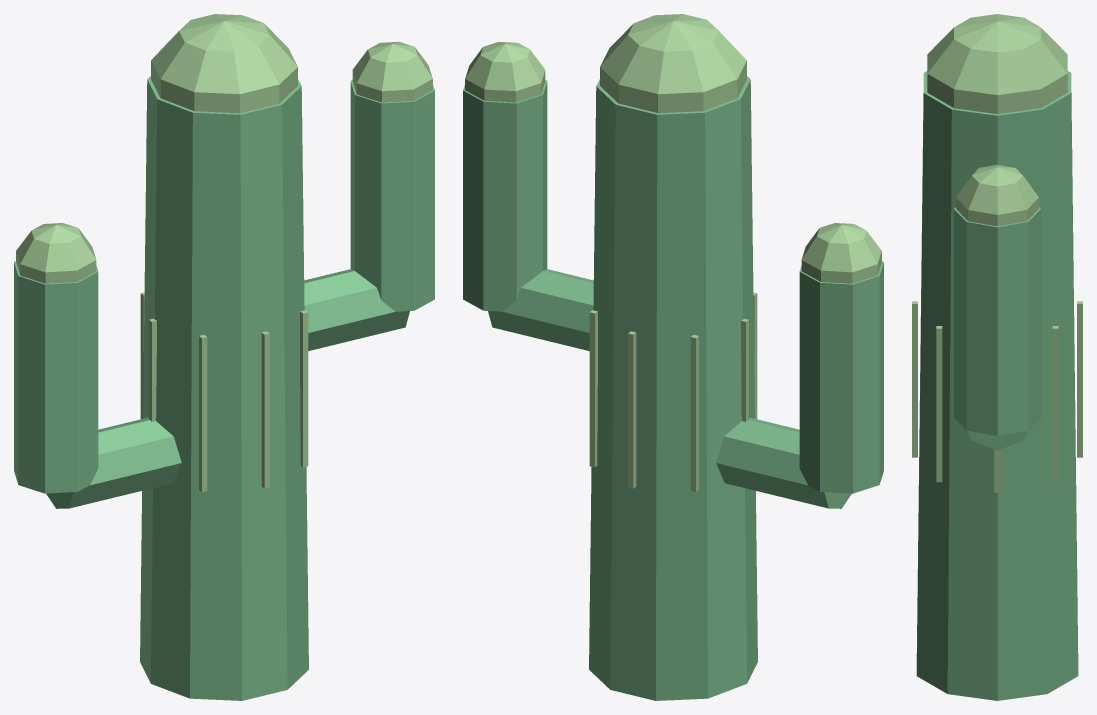
Rendered from cactus.glb.
3 renders of one model, left to right at view 1: azimuth 30°, elevation 25°; view 2: azimuth 150°, elevation 25°; view 3: azimuth 270°, elevation 25°, orthographic.
Parts seen in each view (by area): view 1: cactus; view 2: cactus; view 3: cactus.
Part boxes in pixels (<box>): cactus: <box>14,14,434,700</box>; cactus: <box>463,14,883,700</box>; cactus: <box>912,14,1082,700</box>.
Bounding box in the file's own units: 1.96 × 2.93 × 0.705.
